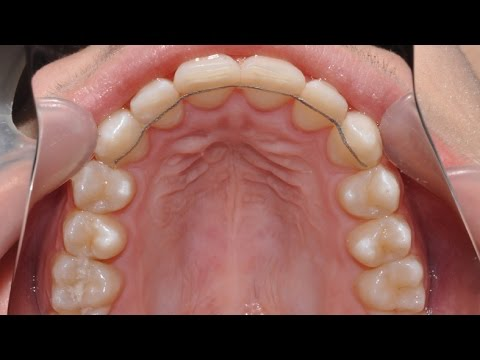UL1BC_healthy: (339, 171, 403, 216)
UL1M_healthy: (359, 263, 423, 311)
UL2BC_healthy: (352, 219, 413, 262)
ULCI_decay: (244, 57, 303, 114)
ULC_decay: (328, 118, 381, 170)
ULLI_decay: (296, 83, 347, 130)
UR1BC_healthy: (74, 165, 135, 210)
UR1M_healthy: (52, 259, 123, 310)
UR2BC_healthy: (65, 213, 126, 259)
URCI_decay: (175, 58, 244, 105)
URC_decay: (95, 120, 152, 164)
URLI_decay: (132, 83, 184, 129)
